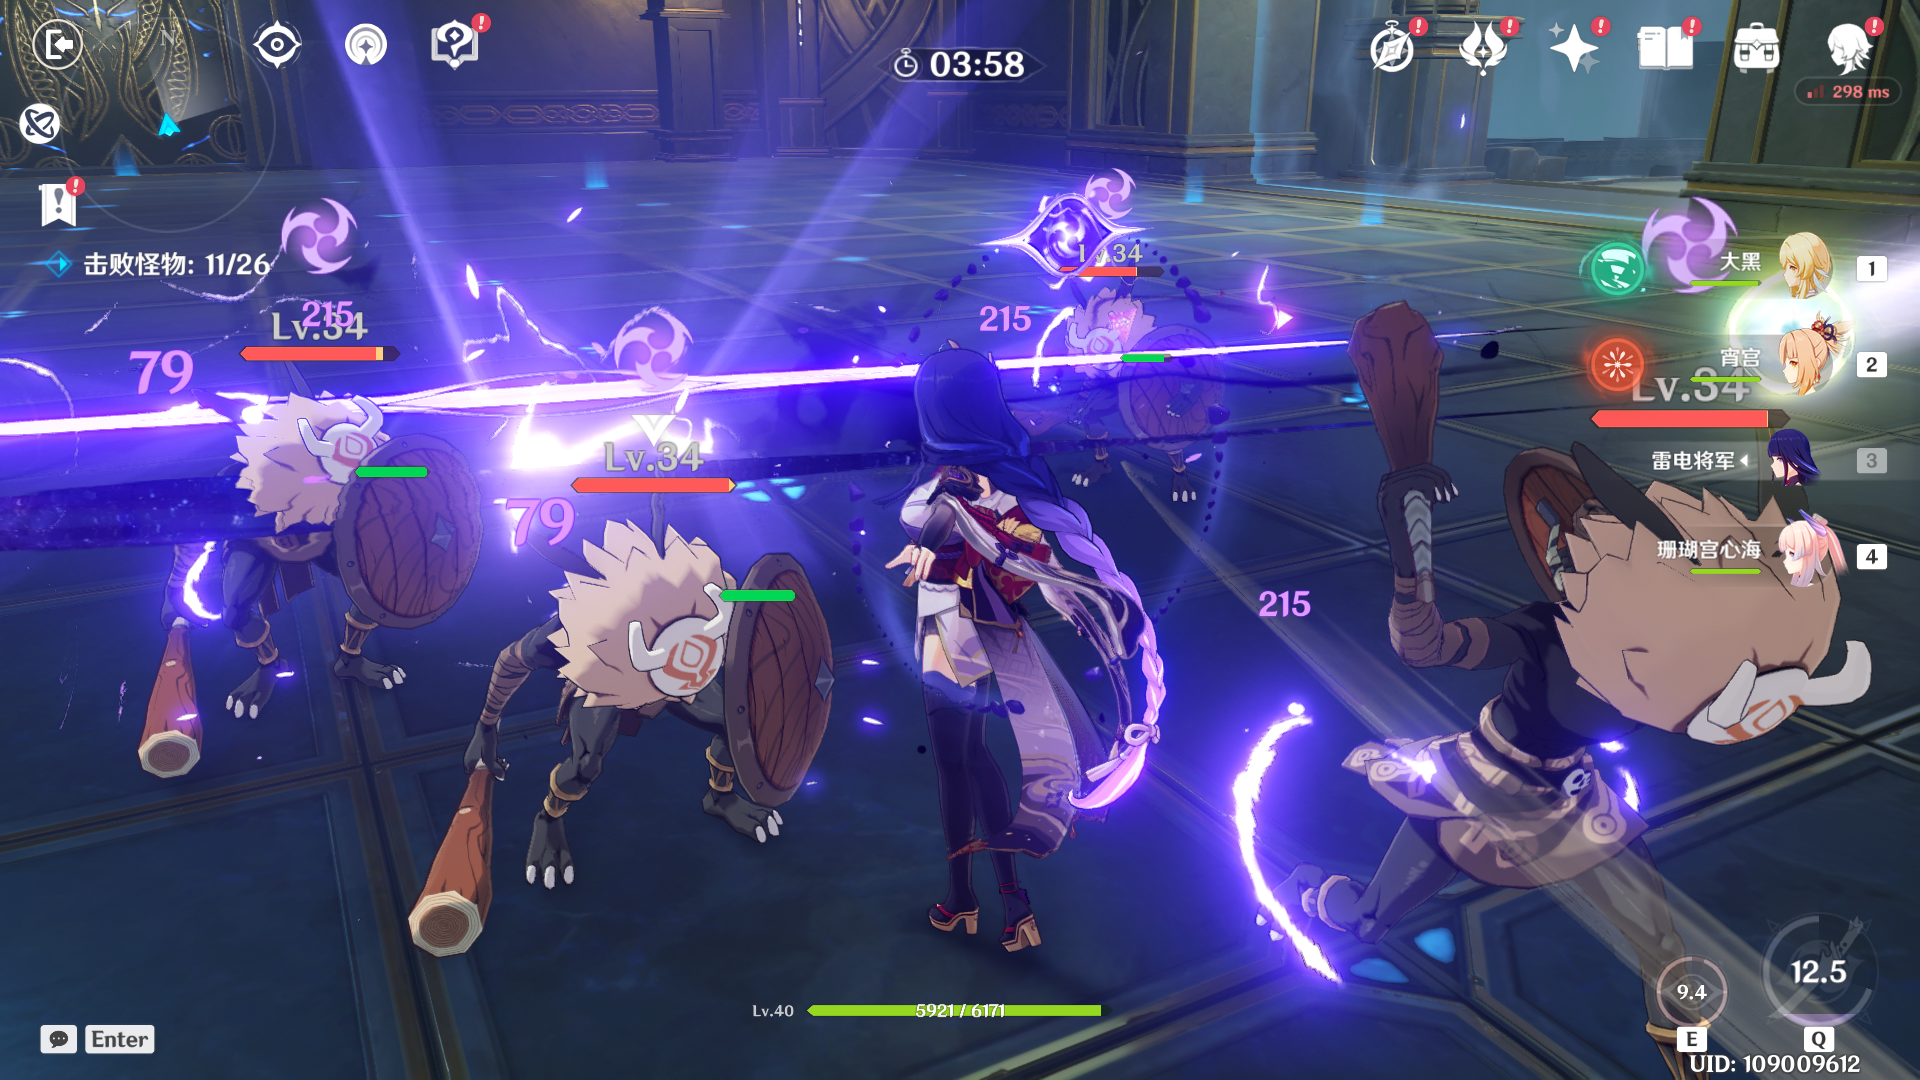character: (851, 328, 1168, 973)
hili: (1335, 316, 1851, 1055), (427, 459, 851, 959), (109, 367, 459, 796), (1040, 269, 1257, 473)
